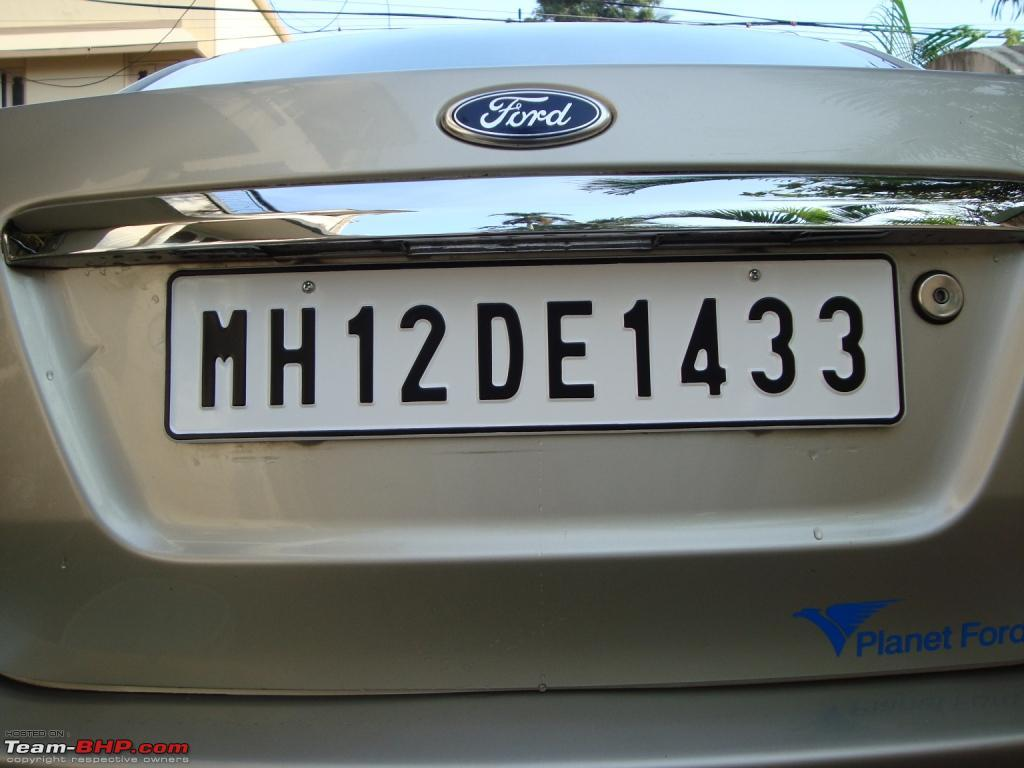License-Plate: (160, 267, 897, 425)
